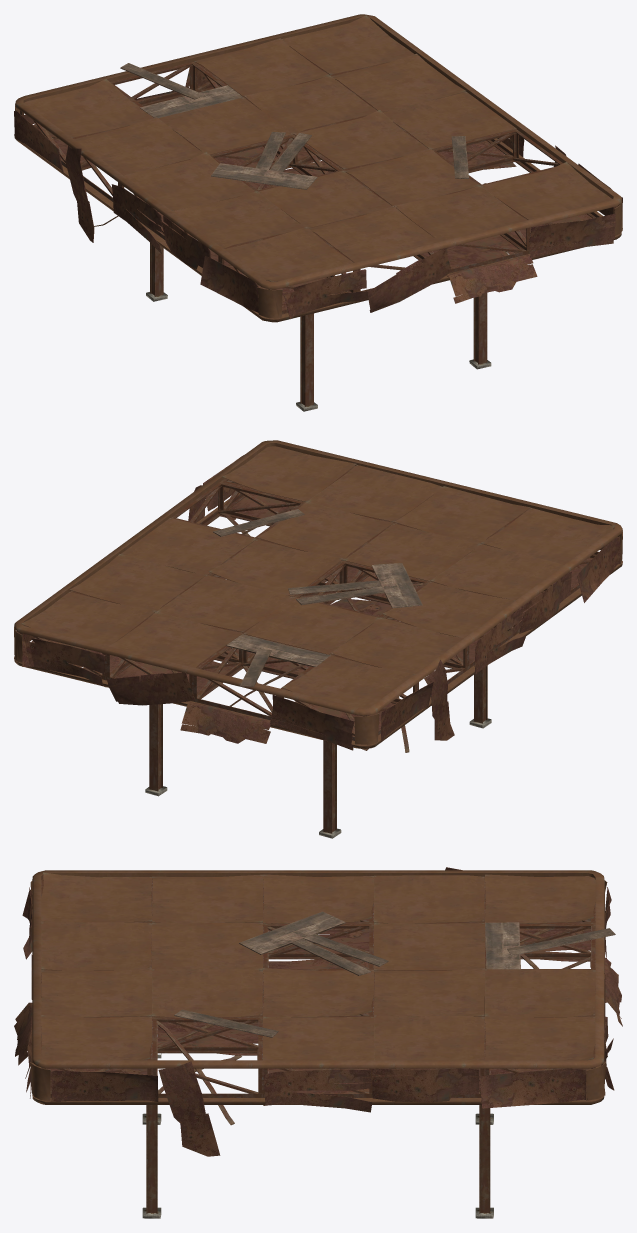
File: gas_station_extension_junkyard.glb
3 views of the same model, one above another, from view 1: azimuth 30°, elevation 25°; view 2: azimuth 150°, elevation 25°; view 3: azimuth 270°, elevation 25° (orthographic). The views are drawn at different scales.
Visible parts, largest first — view 1: gas_station_extension_LOD0; view 2: gas_station_extension_LOD0; view 3: gas_station_extension_LOD0.
Part boxes in pixels (left/top/right/bottom): gas_station_extension_LOD0: left=14, top=14, right=622, bottom=411; gas_station_extension_LOD0: left=14, top=440, right=622, bottom=838; gas_station_extension_LOD0: left=14, top=867, right=622, bottom=1218.
Size of the model in its own units: 13.27 by 6.08 by 16.47.
Materials: 4 (4 with a texture image).
